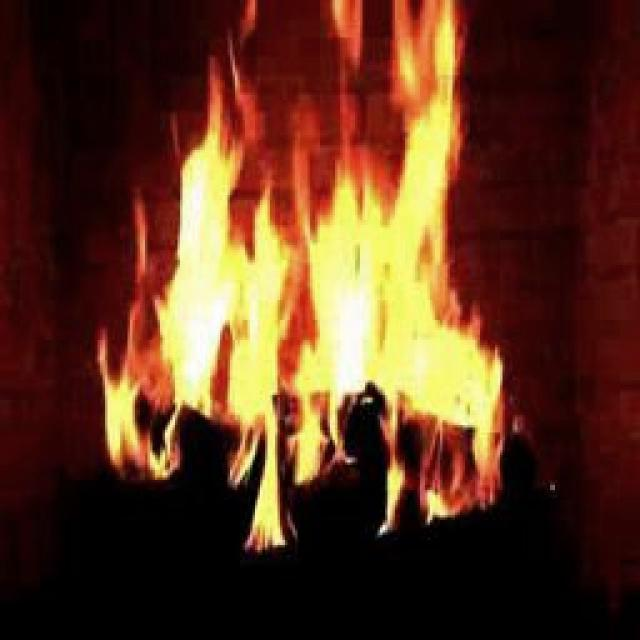Fire: (157, 41, 493, 464)
